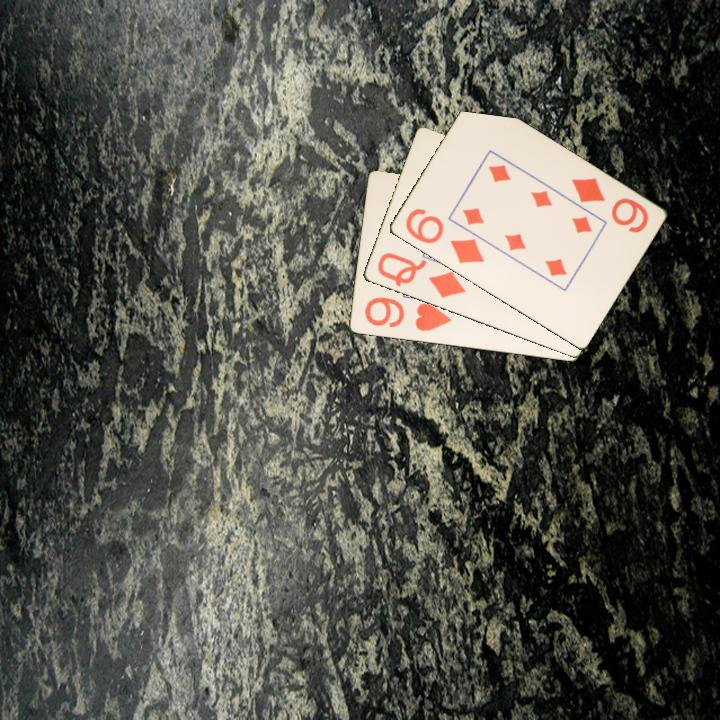6d: (401, 205, 487, 267), (567, 174, 651, 236)
9h: (361, 294, 454, 334)
Qd: (374, 249, 469, 302)
